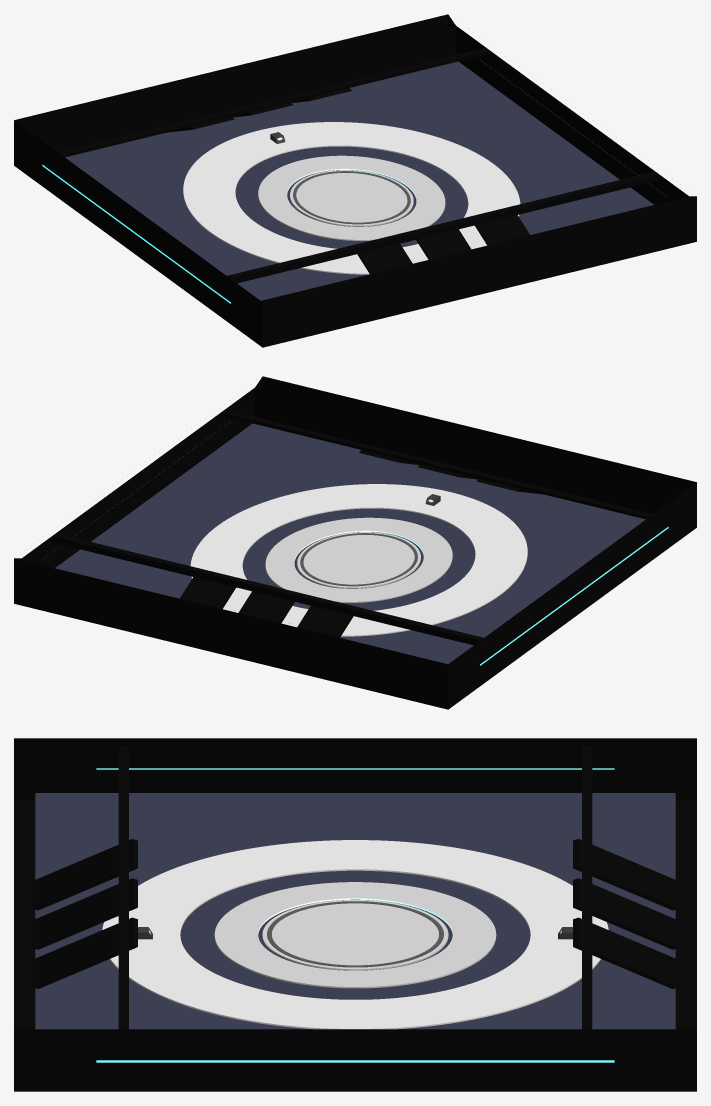
File: showroom.glb
3 views of the same model, one above another, from view 1: azimuth 30°, elevation 25°; view 2: azimuth 150°, elevation 25°; view 3: azimuth 270°, elevation 25° (orthographic). The views are drawn at different scales.
Visible parts, largest first — view 1: Garage, Garage_Main_0.133, Garage_Main_0.2026, Garage_Main_0.126, Garage_Main_0.2037, Garage_Main_0.243, Garage_Main_0.2034, Garage_Main_0.129, Garage_Main_0.141, Garage_Main_0.139, Garage_Main_0.145, Garage_Main_0.127 (+6 smaller); view 2: Garage, Garage_Main_0.126, Garage_Main_0.2033, Garage_Main_0.133, Garage_Main_0.2037, Garage_Main_0.243, Garage_Main_0.2034, Garage_Main_0.129, Garage_Main_0.147, Garage_Main_0.145, Garage_Main_0.139, Garage_Main_0.127 (+5 smaller); view 3: Garage, Garage_Main_0.243, Garage_Main_0.2037, Garage_Main_0.2034, Garage_Main_0.129, Garage_Main_0.2025, Garage_Main_0.127, Garage_Main_0.001, Garage_Main_0.139, Garage_Main_0.145, Garage_Main_0.164, Garage_Main_0.227 (+13 smaller).
Boxes of the visible parts, box(x1,y1,x2,y2) form: Garage: box(42, 61, 653, 303); Garage_Main_0.133: box(262, 196, 696, 347); Garage_Main_0.2026: box(28, 25, 455, 152); Garage_Main_0.126: box(14, 14, 448, 129); Garage_Main_0.2037: box(22, 132, 254, 302); Garage_Main_0.243: box(456, 26, 688, 196); Garage_Main_0.2034: box(22, 165, 254, 335); Garage_Main_0.129: box(458, 59, 668, 204); Garage_Main_0.141: box(231, 174, 658, 283); Garage_Main_0.139: box(227, 171, 658, 278); Garage_Main_0.145: box(58, 48, 489, 154); Garage_Main_0.127: box(15, 121, 262, 346); Garage: box(55, 423, 668, 665); Garage_Main_0.126: box(14, 558, 448, 709); Garage_Main_0.2033: box(255, 387, 682, 514); Garage_Main_0.133: box(262, 376, 696, 491); Garage_Main_0.2037: box(456, 494, 688, 664); Garage_Main_0.243: box(22, 388, 254, 558); Garage_Main_0.2034: box(456, 527, 688, 697); Garage_Main_0.129: box(41, 421, 252, 568); Garage_Main_0.147: box(52, 536, 479, 645); Garage_Main_0.145: box(52, 533, 483, 640); Garage_Main_0.139: box(221, 410, 652, 516); Garage_Main_0.127: box(448, 482, 696, 664); Garage: box(15, 768, 695, 1062); Garage_Main_0.243: box(36, 1037, 674, 1059); Garage_Main_0.2037: box(35, 746, 675, 768); Garage_Main_0.2034: box(36, 770, 674, 792); Garage_Main_0.129: box(35, 1062, 675, 1083); Garage_Main_0.2025: box(14, 800, 696, 1029); Garage_Main_0.127: box(14, 738, 696, 800); Garage_Main_0.001: box(14, 1084, 696, 1091); Garage_Main_0.139: box(118, 746, 128, 1029); Garage_Main_0.145: box(582, 746, 592, 1029); Garage_Main_0.164: box(578, 918, 678, 987); Garage_Main_0.227: box(32, 918, 132, 987).
Bounding box in the file's own units: 42.88 × 4.26 × 42.22.
